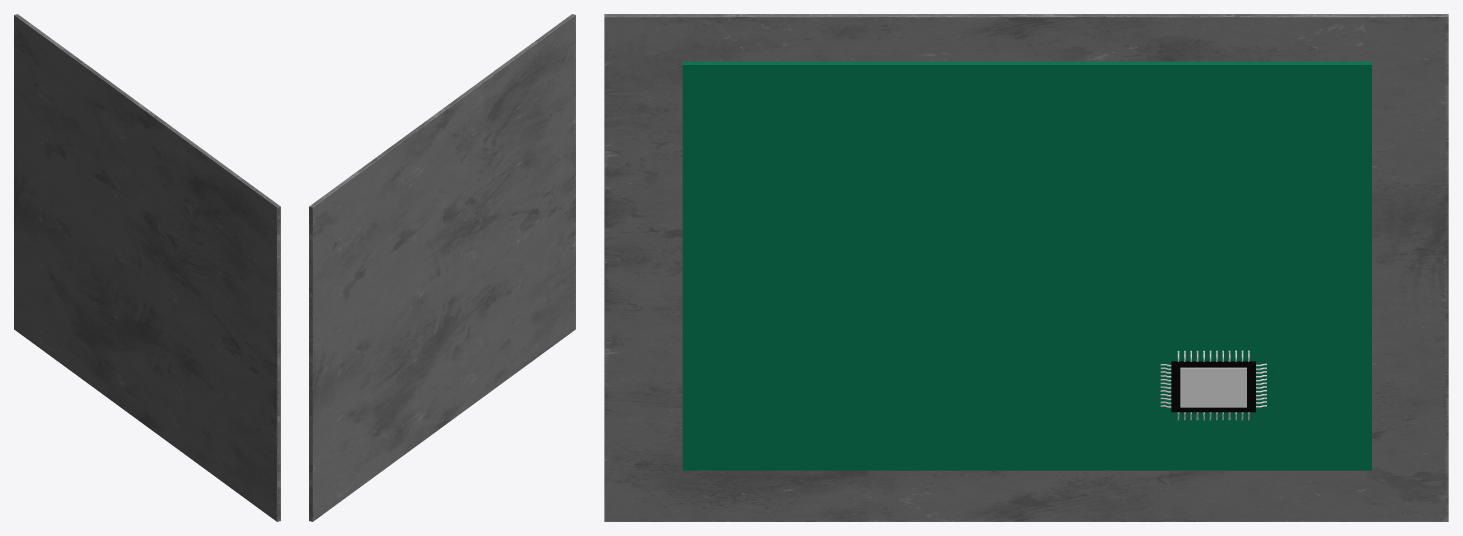
Rendered from Capstone_objectchangeMINIGAME.fbx.
3 renders of one model, left to right at view 1: azimuth 30°, elevation 25°; view 2: azimuth 150°, elevation 25°; view 3: azimuth 270°, elevation 25°, orthographic. The views are drawn at different scales.
Visible parts, largest first — view 1: Plane.001; view 2: Plane.001; view 3: Plane.002, Plane.001, Cube.003.
Part boxes in pixels (<box>): Plane.001: <box>14,14,280,521</box>; Plane.001: <box>309,14,575,521</box>; Plane.002: <box>682,61,1371,470</box>; Plane.001: <box>604,14,1448,521</box>; Cube.003: <box>1160,350,1266,420</box>.
Size of the model in its own units: 63.24 by 1603 by 2429.
